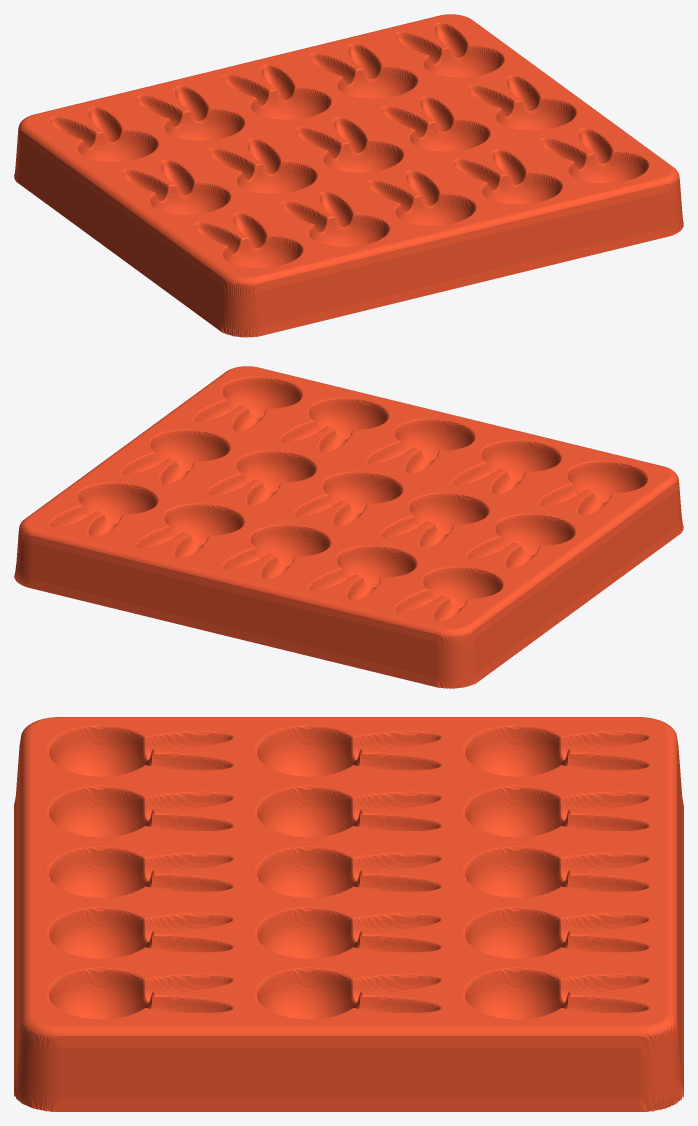
The model's file is mold.glb.
3 views of the same model, one above another, from view 1: azimuth 30°, elevation 25°; view 2: azimuth 150°, elevation 25°; view 3: azimuth 270°, elevation 25° (orthographic). The views are drawn at different scales.
Parts seen in each view (by area): view 1: geometry_0; view 2: geometry_0; view 3: geometry_0.
Boxes of the visible parts, x1=… form: geometry_0: x1=14, y1=14, x2=683, y2=337; geometry_0: x1=14, y1=366, x2=683, y2=688; geometry_0: x1=14, y1=717, x2=683, y2=1111.
Bounding box in the file's own units: 0.1536 × 0.0175 × 0.1347.
